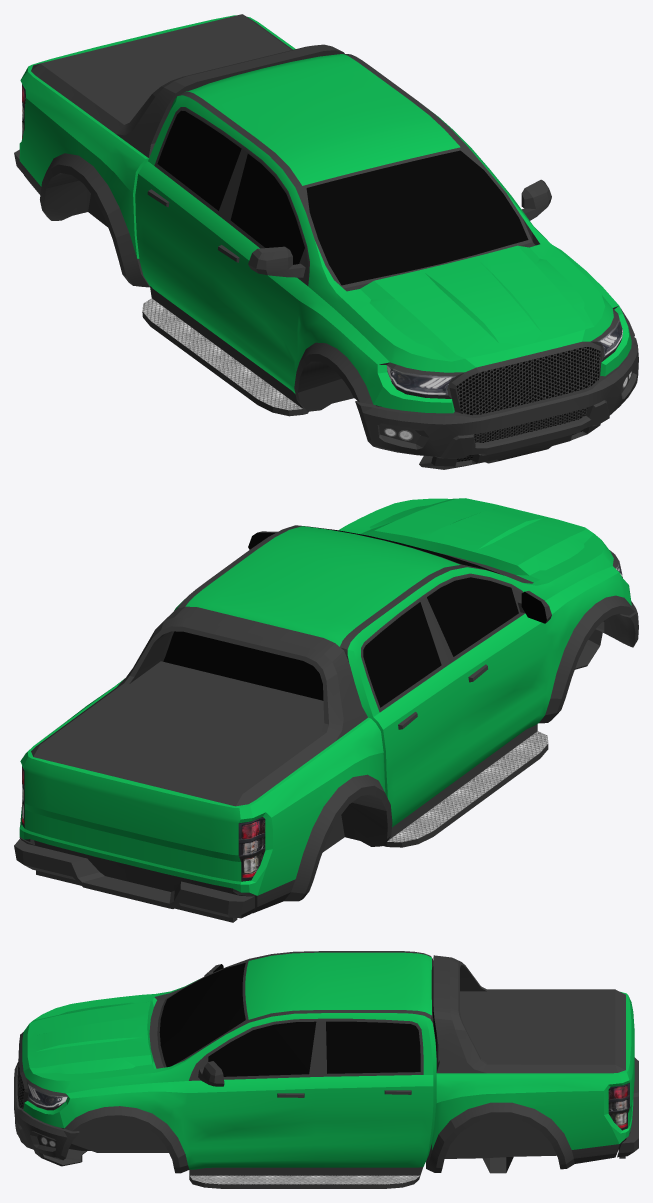
File: Jeep_2.fbx
The picture shows the model from 3 angles, top to bottom: view 1: azimuth 30°, elevation 25°; view 2: azimuth 150°, elevation 25°; view 3: azimuth 270°, elevation 25°; orthographic projection. The views are drawn at different scales.
Parts seen in each view (by area): view 1: Jeep_2; view 2: Jeep_2; view 3: Jeep_2.
Part boxes in pixels (x1=…): Jeep_2: x1=14, y1=14, x2=638, y2=469; Jeep_2: x1=14, y1=498, x2=638, y2=922; Jeep_2: x1=14, y1=951, x2=638, y2=1188.
Size of the model in its own units: 89.7 by 60.76 by 213.
4 materials, 2 textured.
